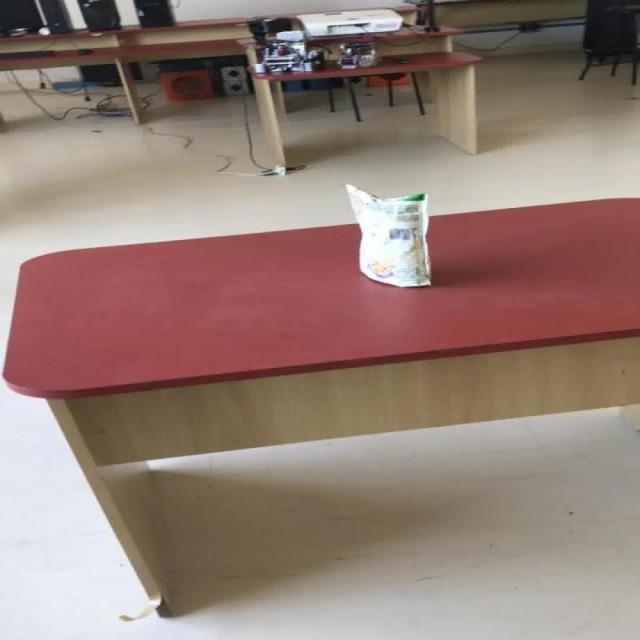CornFlakes: (342, 183, 431, 288)
